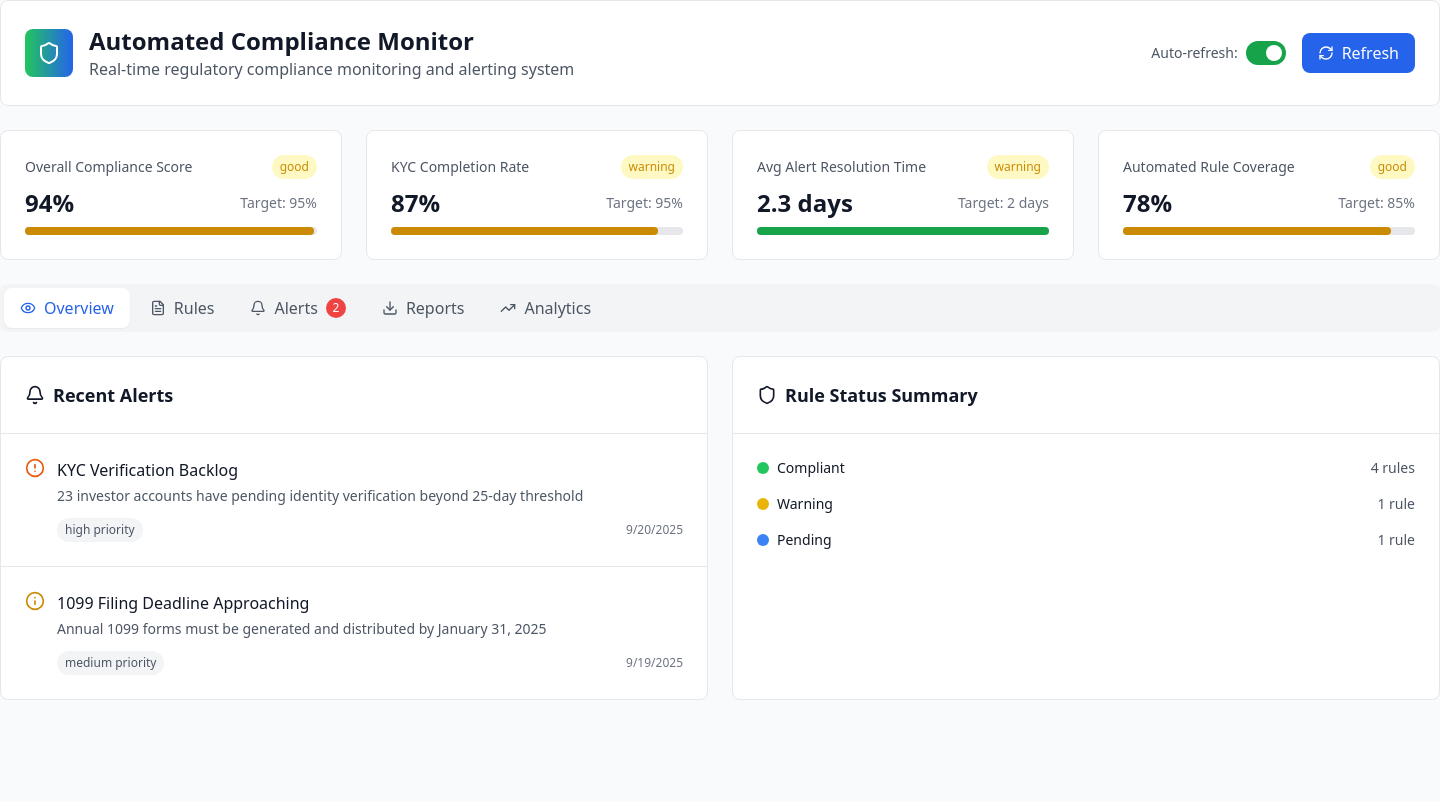
it: AutomatedComplianceMonitor › displays compliance alerts with severity levels
Click the text "Alerts": point(296, 308) top-left (274, 296), bottom-right (318, 320)
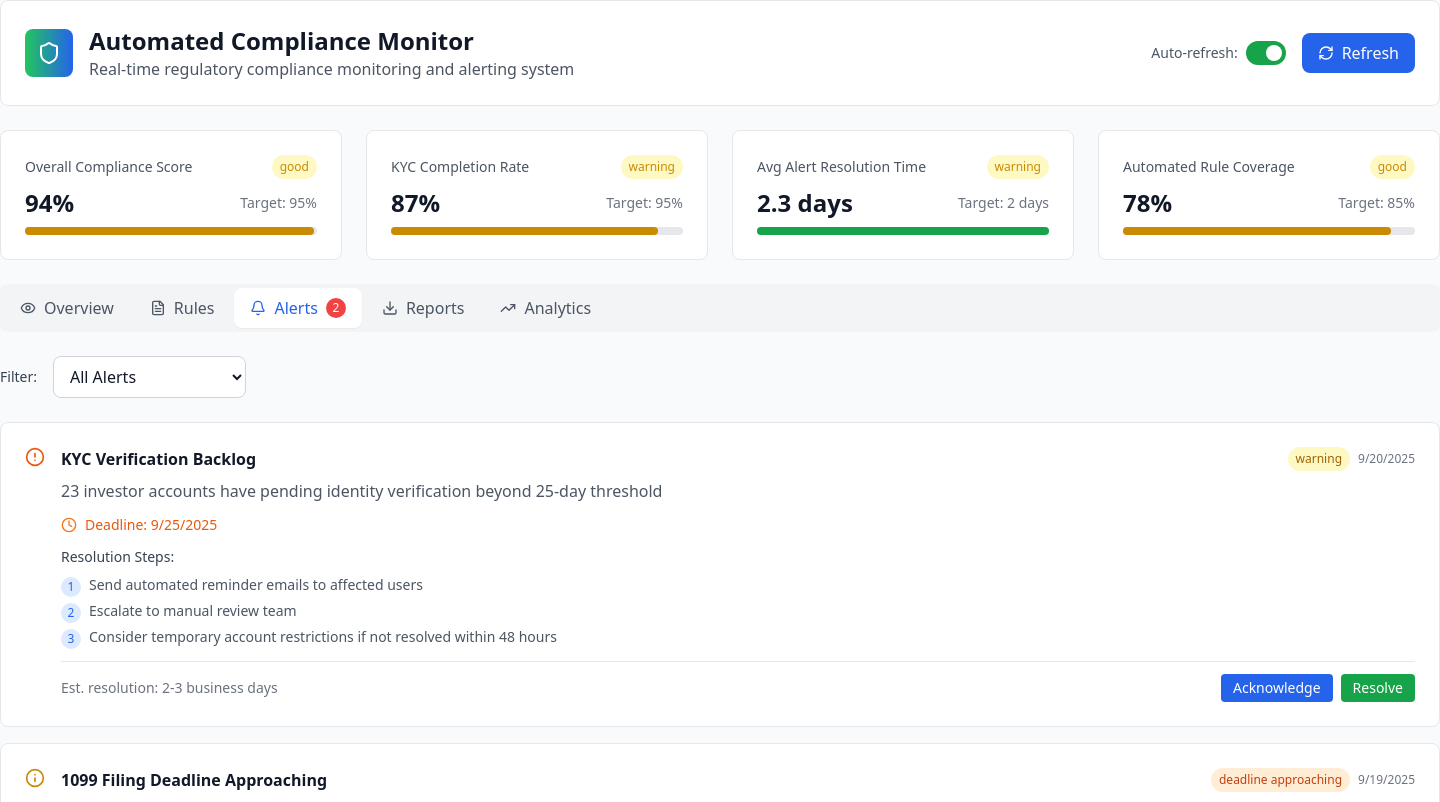
Expected: the heading "KYC Verification Backlog" is shown, top-left (61, 447), bottom-right (256, 471)
Expected: the text "deadline approaching" is shown, top-left (1211, 768), bottom-right (1350, 792)
